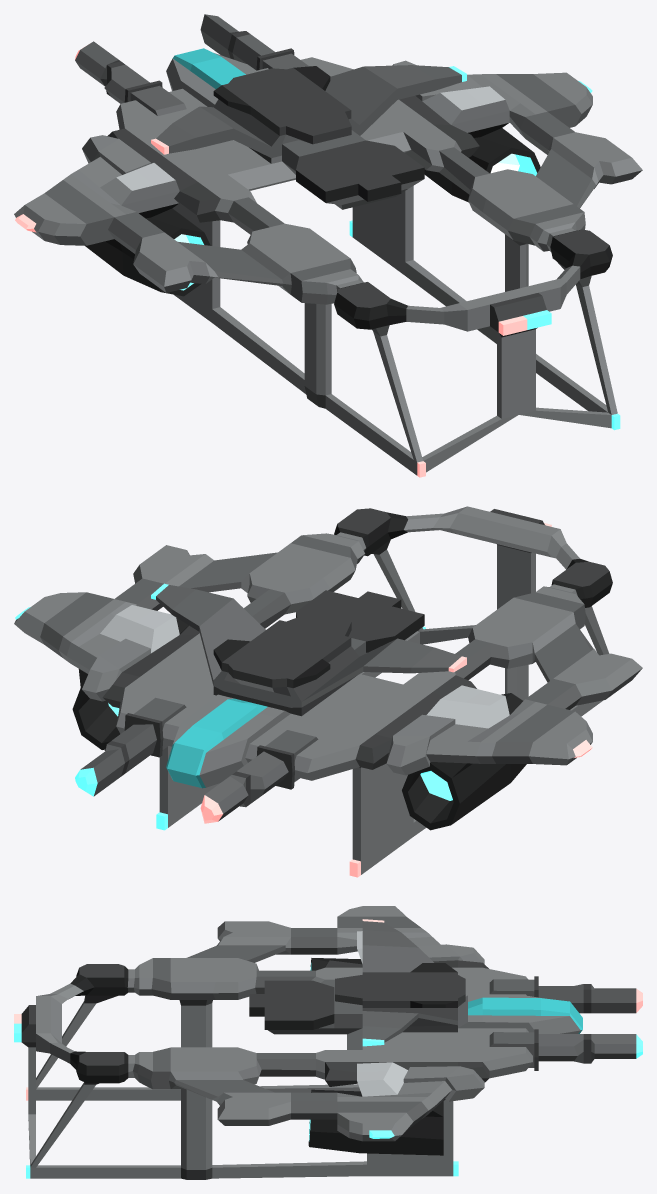
Rendered from Cargo_S_LODGroup.fbx.
3 views of the same model, one above another, from view 1: azimuth 30°, elevation 25°; view 2: azimuth 150°, elevation 25°; view 3: azimuth 270°, elevation 25° (orthographic). The views are drawn at different scales.
Visible parts, largest first — view 1: Cargo_S_LOD0; view 2: Cargo_S_LOD0; view 3: Cargo_S_LOD0.
Part boxes in pixels (x1=…): Cargo_S_LOD0: x1=14, y1=14, x2=642, y2=477; Cargo_S_LOD0: x1=14, y1=506, x2=642, y2=877; Cargo_S_LOD0: x1=14, y1=906, x2=642, y2=1179.
Size of what is drawn, in the model's own units: 139 by 45.82 by 163.
